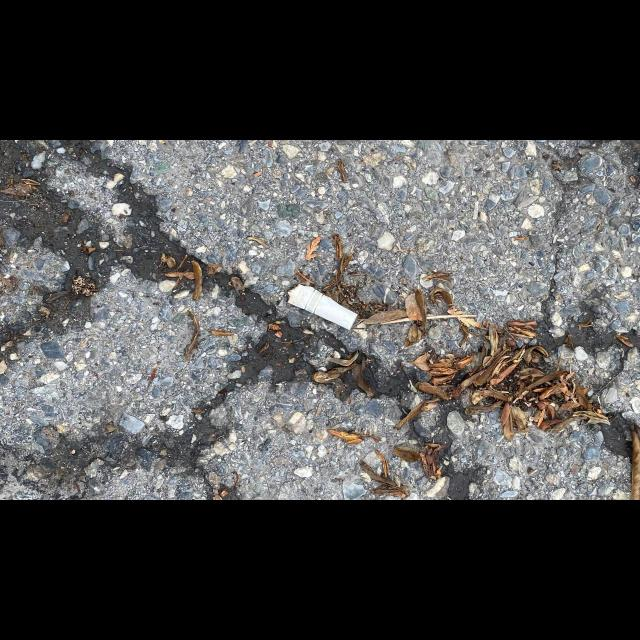cigarette: (286, 282, 358, 330)
